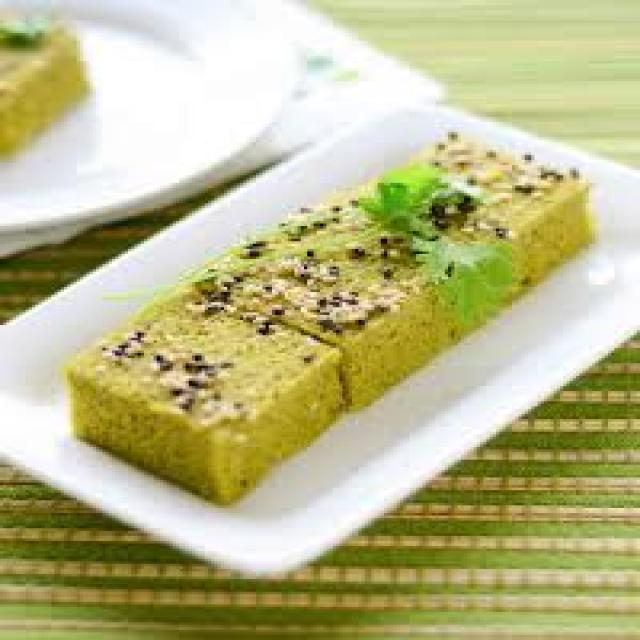DHOKLA: (70, 292, 339, 503), (186, 206, 454, 409)
